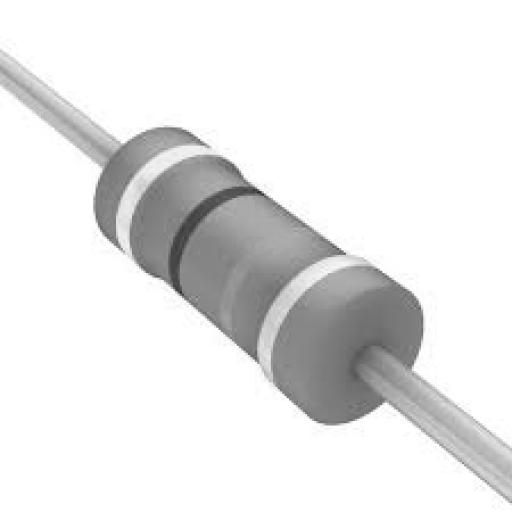RESISTOR: (37, 66, 482, 474)
